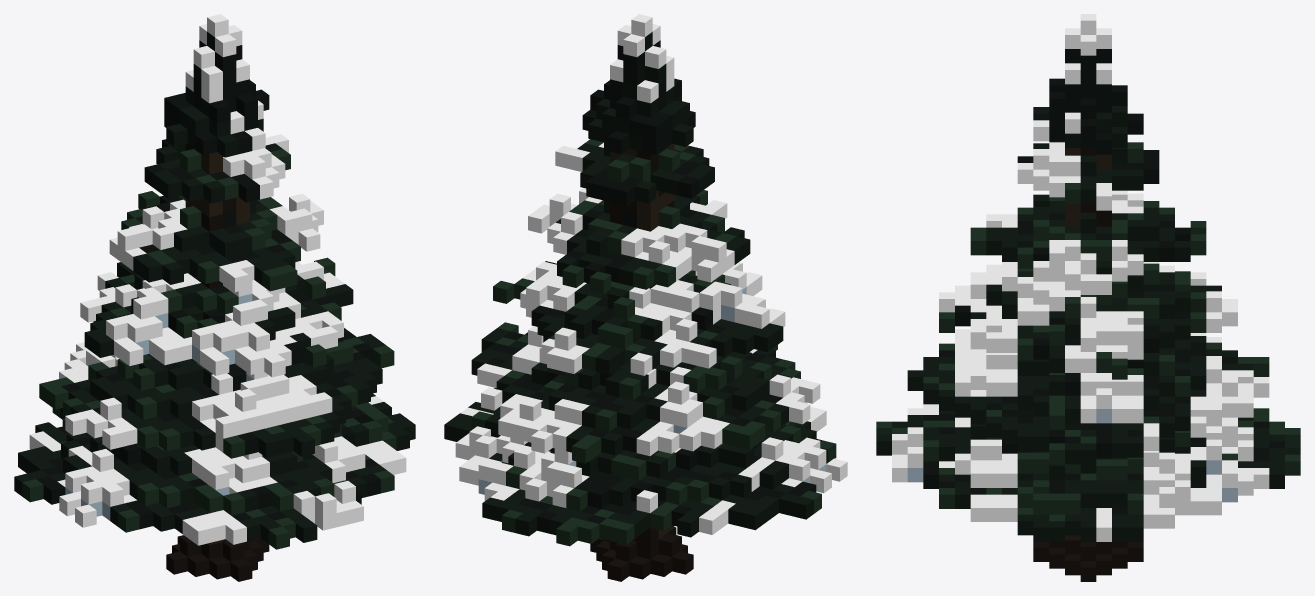
File: tree.glb
3 views of the same model, side by side, from view 1: azimuth 30°, elevation 25°; view 2: azimuth 150°, elevation 25°; view 3: azimuth 270°, elevation 25° (orthographic).
Visible parts, largest first — view 1: SM_VoxelPine_Tree02; view 2: SM_VoxelPine_Tree02; view 3: SM_VoxelPine_Tree02.
Part boxes in pixels (x1,y1,x2,y2): SM_VoxelPine_Tree02: (14,14,415,581); SM_VoxelPine_Tree02: (444,14,847,581); SM_VoxelPine_Tree02: (876,14,1300,581).
Bounding box in the file's own units: 5.2 × 7.6 × 5.4.
1 material, 1 textured.
